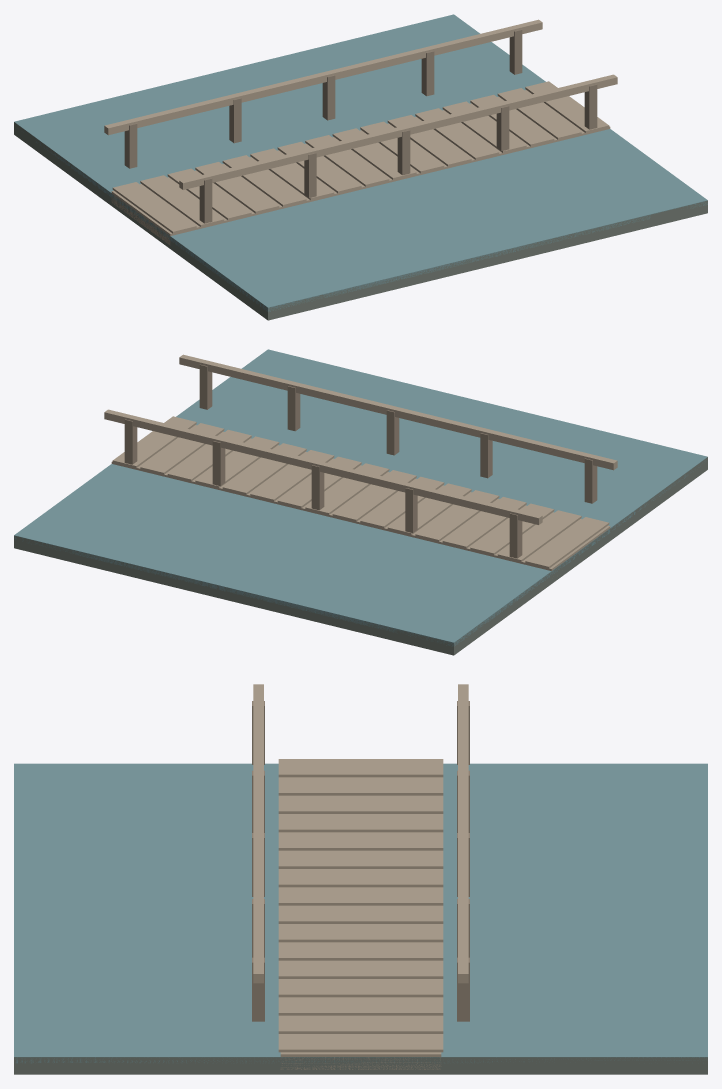
The model's file is bridge_foot_ew.glb.
3 views of the same model, one above another, from view 1: azimuth 30°, elevation 25°; view 2: azimuth 150°, elevation 25°; view 3: azimuth 270°, elevation 25° (orthographic). The views are drawn at different scales.
Visible parts, largest first — view 1: road_material_01, road_material_02, road_material_00, road_material_03; view 2: road_material_01, road_material_02, road_material_00, road_material_03; view 3: road_material_01, road_material_02, road_material_00, road_material_03.
Part boxes in pixels (box(x1,y1,x2,y2)): road_material_01: box(14, 14, 707, 311); road_material_02: box(104, 19, 617, 245); road_material_00: box(14, 122, 707, 320); road_material_03: box(124, 29, 597, 223); road_material_01: box(14, 349, 707, 646); road_material_02: box(104, 354, 617, 570); road_material_00: box(14, 457, 707, 655); road_material_03: box(124, 364, 597, 558); road_material_01: box(14, 763, 707, 1063); road_material_02: box(253, 684, 468, 1069); road_material_00: box(14, 1057, 707, 1074); road_material_03: box(252, 701, 469, 1021).
Size of the model in its own units: 8 by 1.26 by 8.
